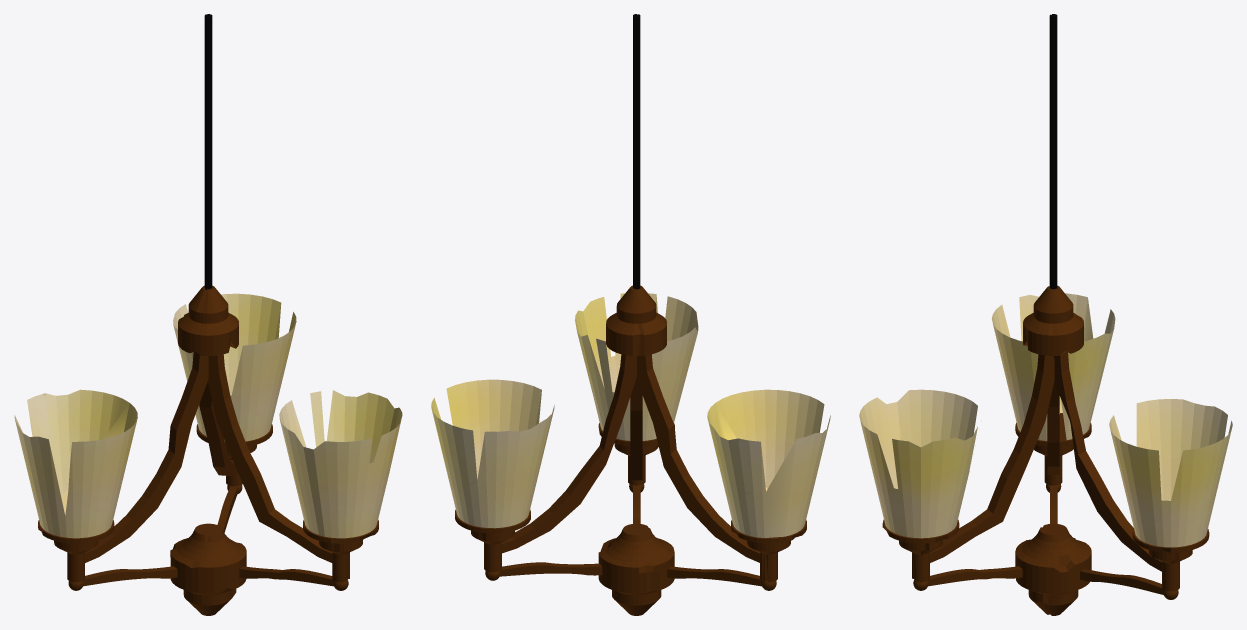
Rendered from Lustre_KOT.fbx.
3 renders of one model, left to right at view 1: azimuth 30°, elevation 25°; view 2: azimuth 150°, elevation 25°; view 3: azimuth 270°, elevation 25°, orthographic.
Parts seen in each view (by area): view 1: Lumière, Lumière.001, branche_supérieur, Lumière.002, Top piece.001, Top piece, Cube.003, Cylinder, support lumiere.001, support lumiere.002, support lumiere; view 2: Lumière, Lumière.002, branche_supérieur, Lumière.001, Top piece.001, Top piece, Cube.003, Cylinder, support lumiere, support lumiere.001, support lumiere.002; view 3: Lumière.001, Lumière.002, branche_supérieur, Lumière, Top piece.001, Top piece, Cylinder, Cube.003, support lumiere, support lumiere.002, support lumiere.001.
Boxes of the visible parts, x1,y1,x2,y2 form: Lumière: [14, 389, 137, 538]; Lumière.001: [279, 390, 402, 538]; branche_supérieur: [84, 351, 332, 562]; Lumière.002: [173, 293, 296, 441]; Top piece.001: [170, 523, 246, 615]; Top piece: [178, 285, 238, 355]; Cube.003: [83, 486, 333, 586]; Cylinder: [204, 14, 212, 290]; support lumiere.001: [38, 520, 114, 590]; support lumiere.002: [303, 520, 378, 590]; support lumiere: [196, 424, 272, 493]; Lumière: [707, 389, 830, 537]; Lumière.002: [431, 379, 554, 528]; branche_supérieur: [501, 354, 760, 562]; Lumière.001: [575, 293, 698, 440]; Top piece.001: [598, 523, 674, 615]; Top piece: [606, 285, 666, 355]; Cube.003: [500, 485, 761, 586]; Cylinder: [633, 14, 640, 289]; support lumiere: [455, 509, 530, 580]; support lumiere.001: [731, 520, 806, 590]; support lumiere.002: [598, 423, 674, 492]; Lumière.001: [859, 389, 977, 538]; Lumière.002: [1109, 399, 1232, 547]; branche_supérieur: [929, 352, 1162, 571]; Lumière: [992, 293, 1115, 440]; Top piece.001: [1015, 523, 1091, 615]; Top piece: [1023, 285, 1083, 355]; Cylinder: [1049, 14, 1057, 289]; Cube.003: [928, 485, 1163, 594]; support lumiere: [1132, 529, 1209, 599]; support lumiere.002: [882, 519, 959, 590]; support lumiere.001: [1015, 413, 1091, 492].
Size of the model in its own units: 24.43 by 43.09 by 24.45.
